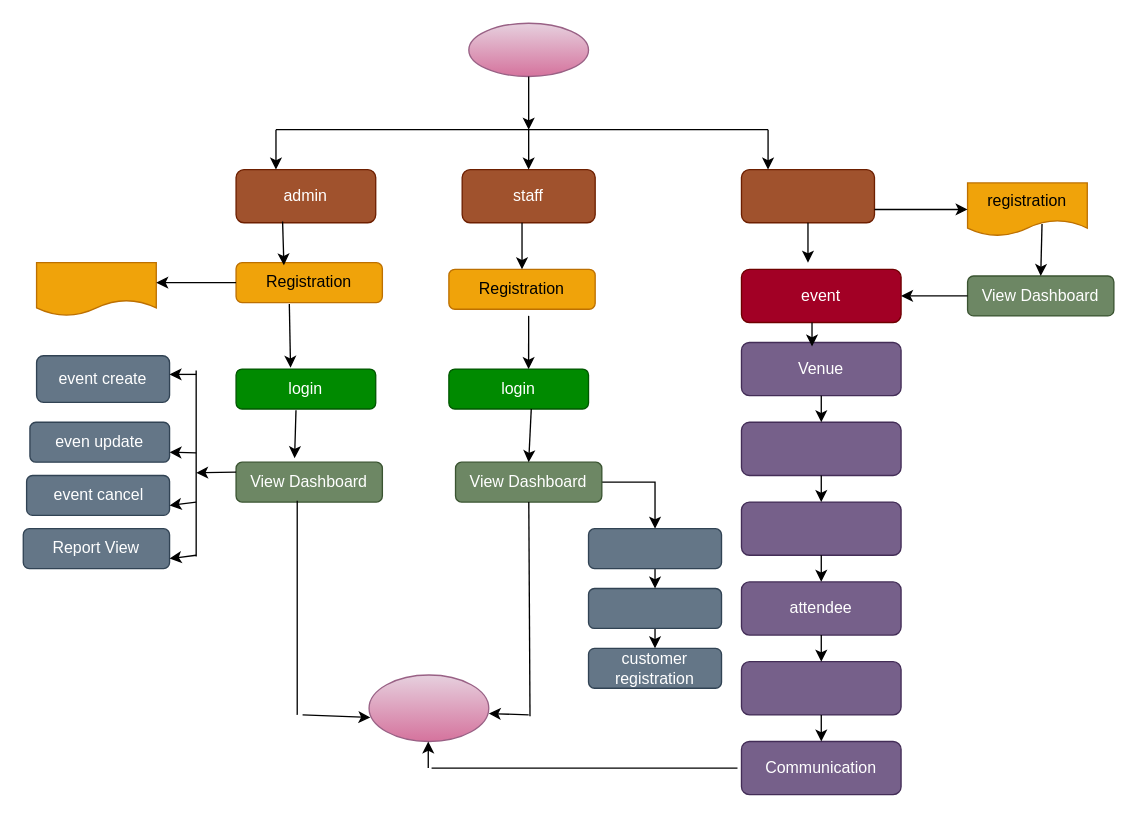
The diagram is 1137 pixels wide and 818 high, and some of its shapes have lost their labels. Here are the shapes that lost their labels. From the top down, the centre of each, then its label:
At [528,49]: "start".
At [807,195]: "customer".
At [95,288]: "registration by super admin".
At [820,448]: "event ticket".
At [654,548]: "event view".
At [820,528]: "Expense".
At [654,607]: "venue select".
At [428,707]: "End".
At [820,687]: "Feedback".
